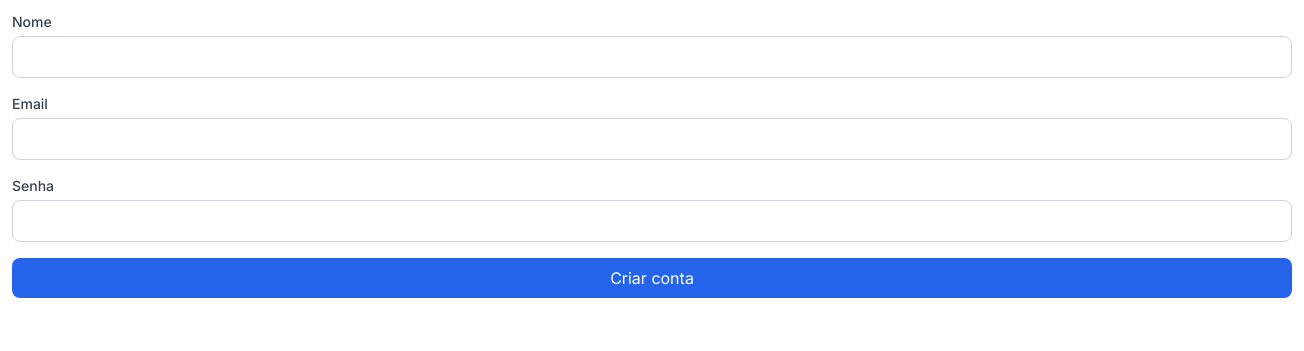
Test case: RegisterForm › exibe erro quando email já está em uso
Type "Test User" into the field labelled "Nome" at (652, 57), box [12,36,1292,78]
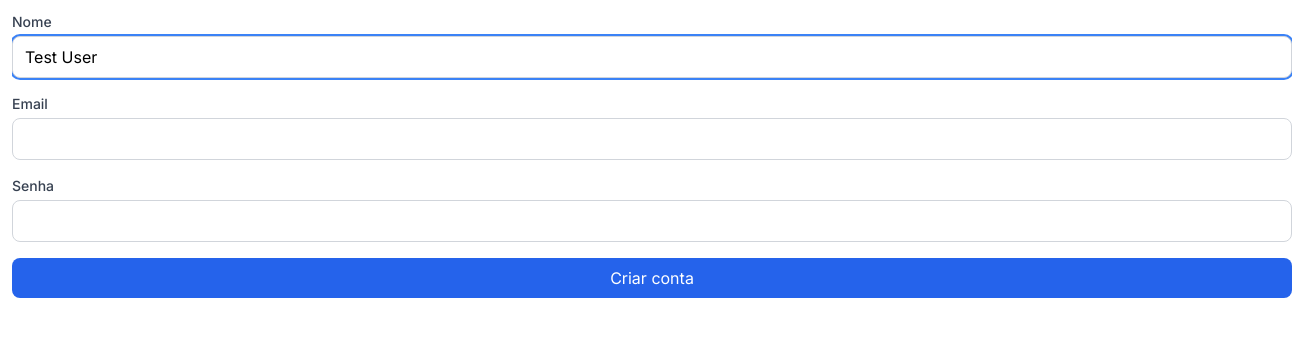
Type "existing@example.com" into the field labelled "Email" at (652, 139), box [12,118,1292,160]
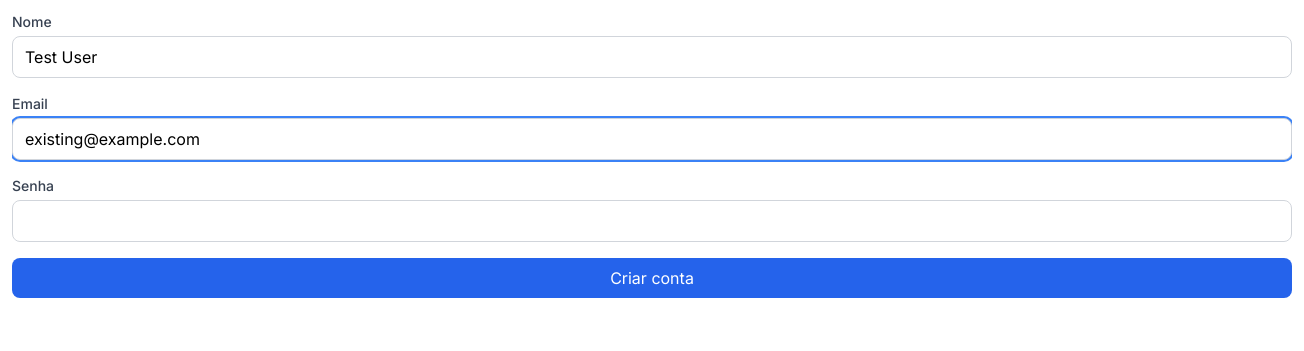
Type "Password1" into the password field labelled "Senha" at (652, 221), box [12,200,1292,242]
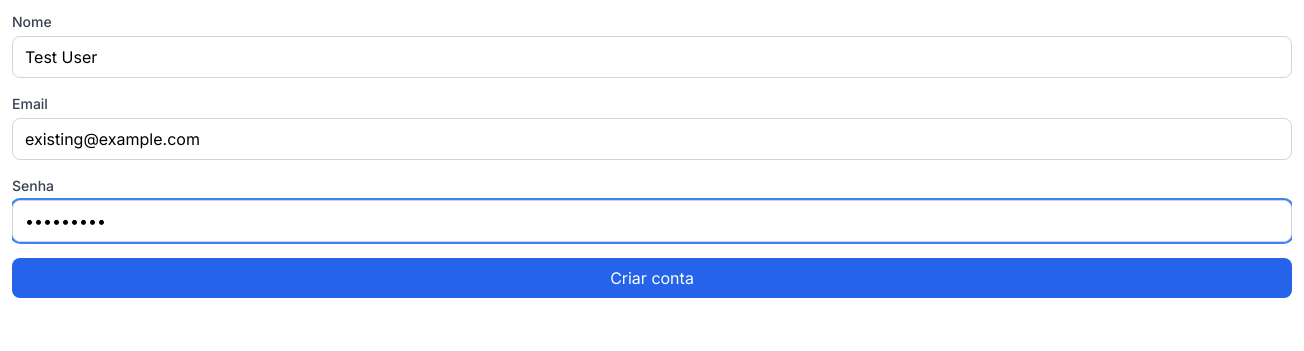
Click the button "Criar conta" at (652, 278), box [12,258,1292,298]
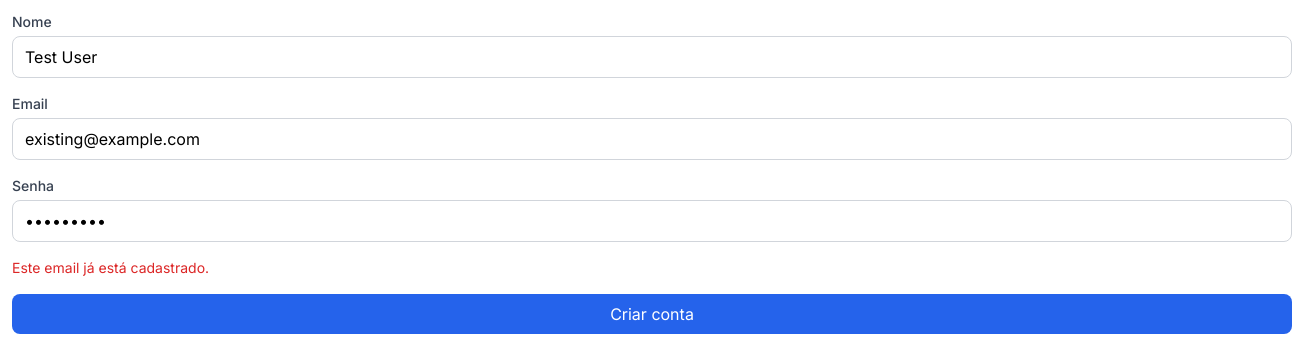
Check: the text "Este email já está cadastrado." is shown, box [12,259,209,276]
